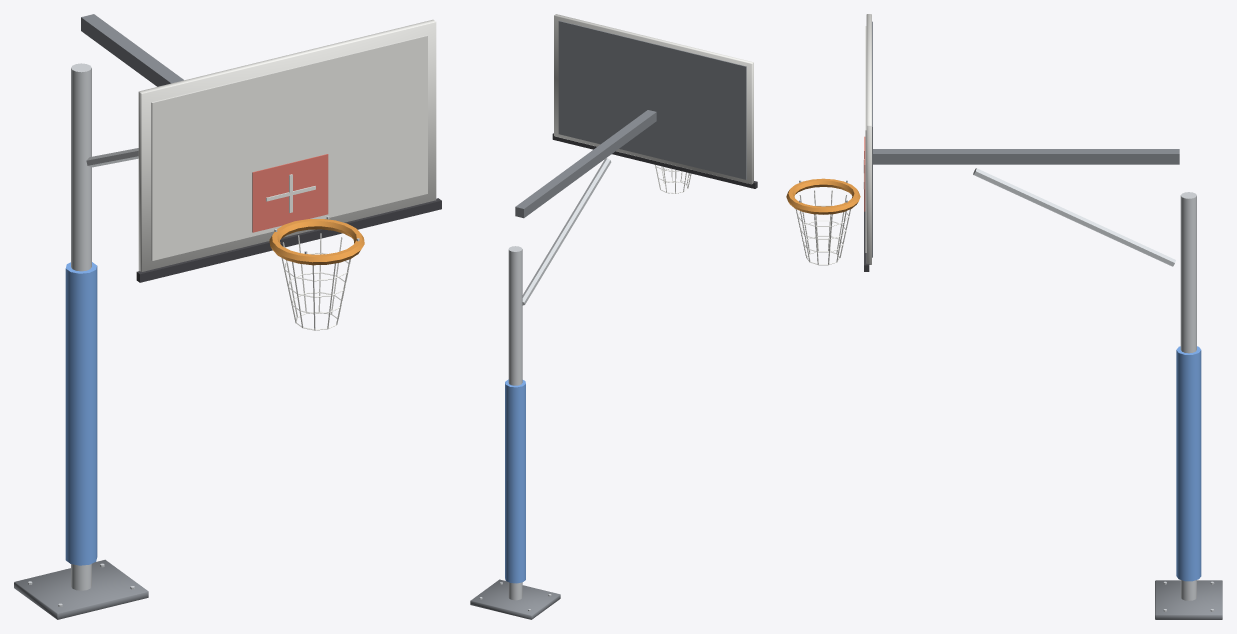
Rendered from Hoop.fbx.
3 views of the same model, side by side, from view 1: azimuth 30°, elevation 25°; view 2: azimuth 150°, elevation 25°; view 3: azimuth 270°, elevation 25° (orthographic). The views are drawn at different scales.
Visible parts, largest first — view 1: LOD0; view 2: LOD0; view 3: LOD0.
Boxes of the visible parts, x1,y1,x2,y2 form: LOD0: (14, 14, 441, 619); LOD0: (470, 14, 757, 619); LOD0: (786, 14, 1222, 619).
Size of what is drawn, in the model's own units: 184 by 400 by 297.
